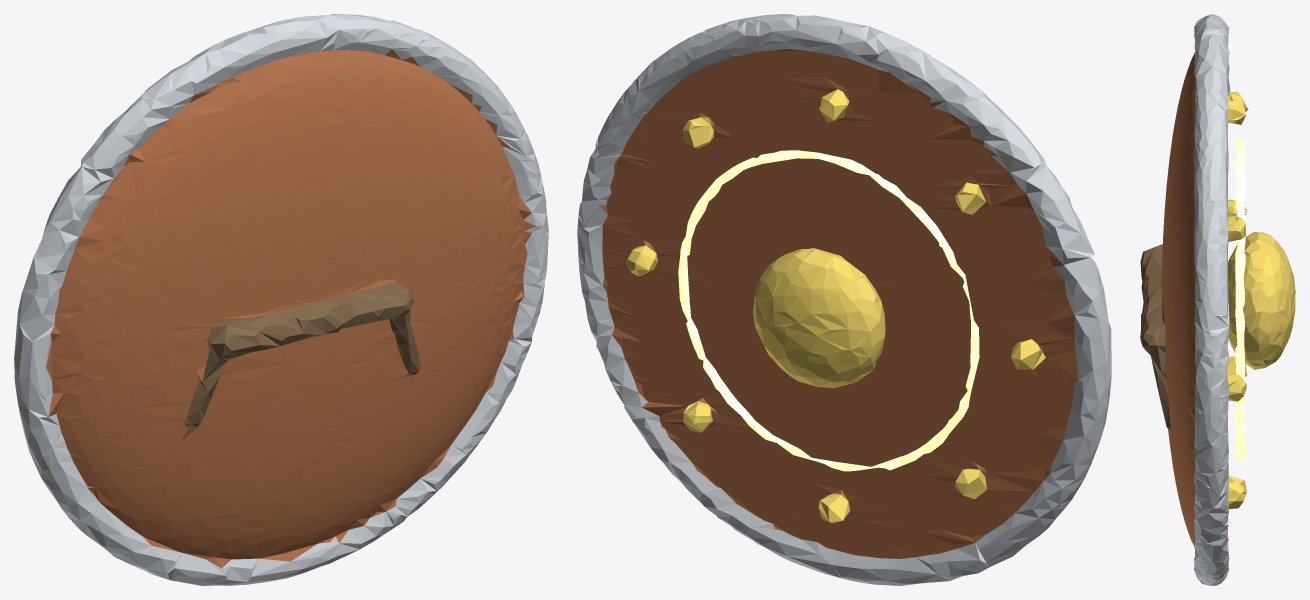
File: shield-orange.glb
3 views of the same model, side by side, from view 1: azimuth 30°, elevation 25°; view 2: azimuth 150°, elevation 25°; view 3: azimuth 270°, elevation 25° (orthographic). The views are drawn at different scales.
Visible parts, largest first — view 1: enamel-orange, steel, leather; view 2: enamel-orange, steel, gold, inlay-orange; view 3: steel, enamel-orange, gold, leather, inlay-orange.
Boxes of the visible parts, x1,y1,x2,y2 form: enamel-orange: [46, 49, 535, 567]; steel: [14, 14, 548, 585]; leather: [184, 280, 421, 426]; enamel-orange: [599, 49, 1078, 558]; steel: [577, 14, 1111, 585]; gold: [626, 89, 1045, 523]; inlay-orange: [678, 150, 979, 471]; steel: [1194, 14, 1230, 585]; enamel-orange: [1161, 52, 1196, 548]; gold: [1227, 92, 1295, 508]; leather: [1140, 244, 1170, 430]; inlay-orange: [1235, 138, 1245, 461].
Size of the model in its own units: 0.4352 by 0.4357 by 0.1184.
